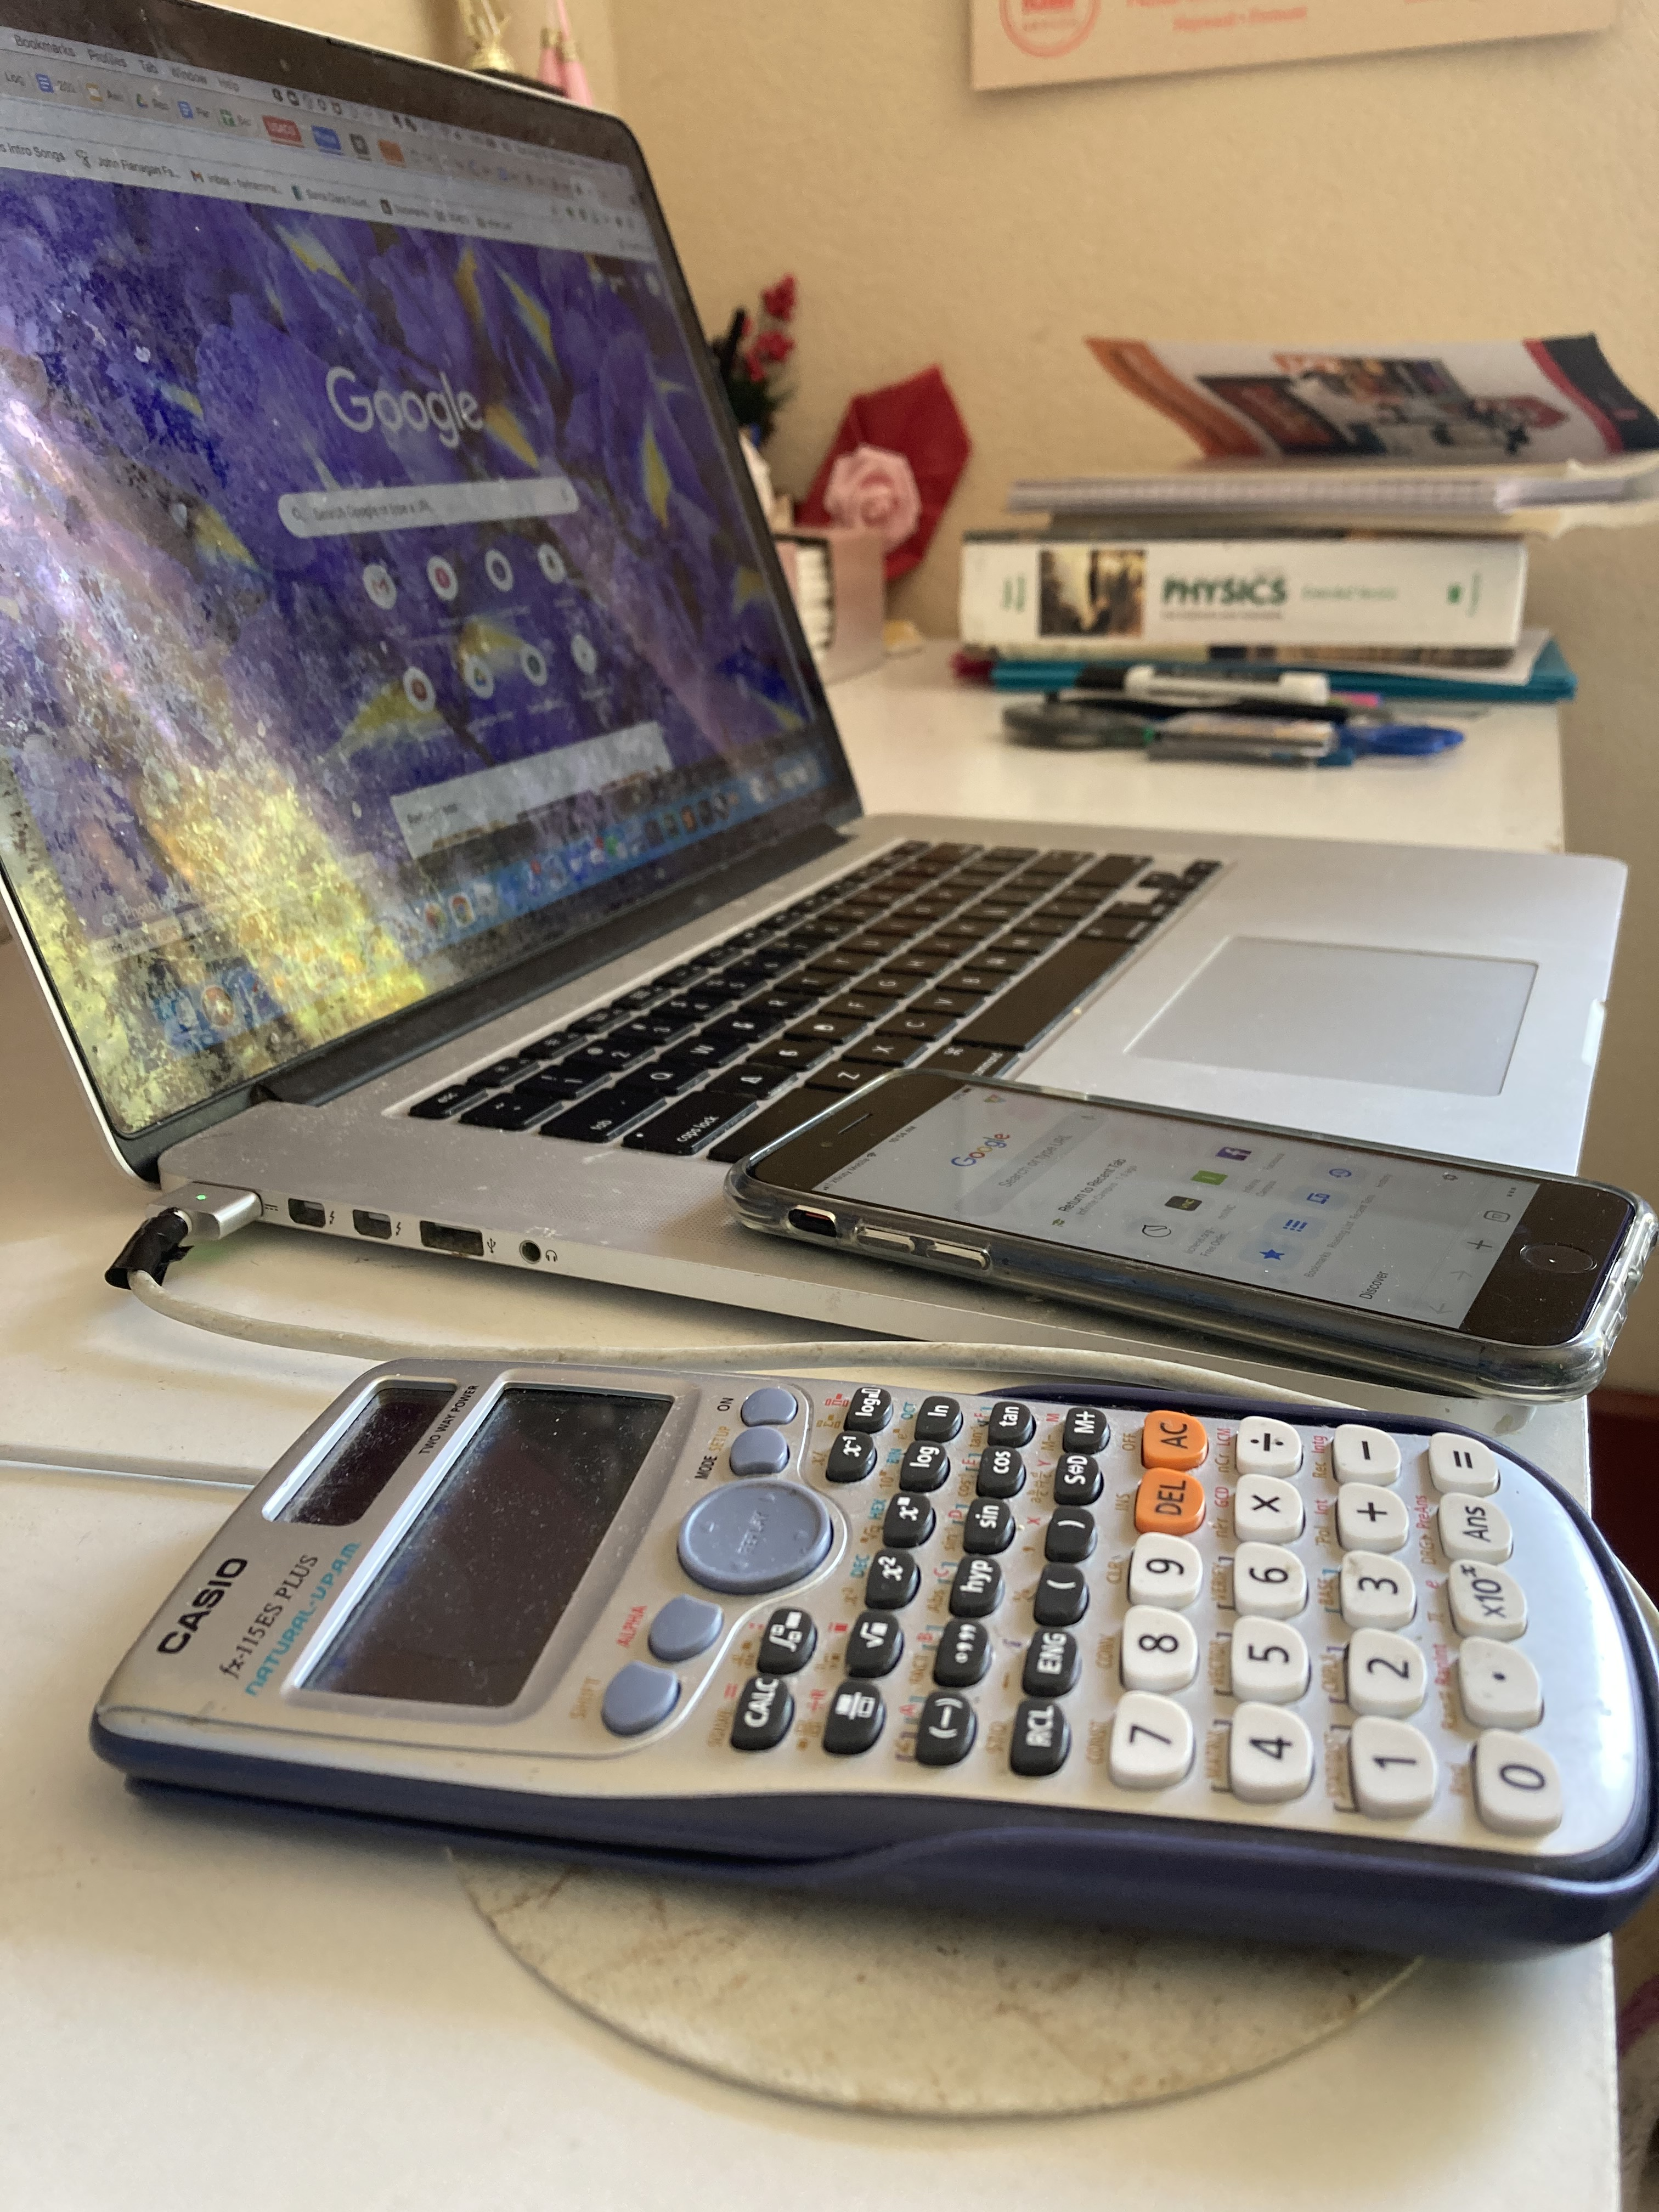Calculator: (91, 1362, 1659, 1973)
Cell Phone: (734, 1076, 1659, 1393)
